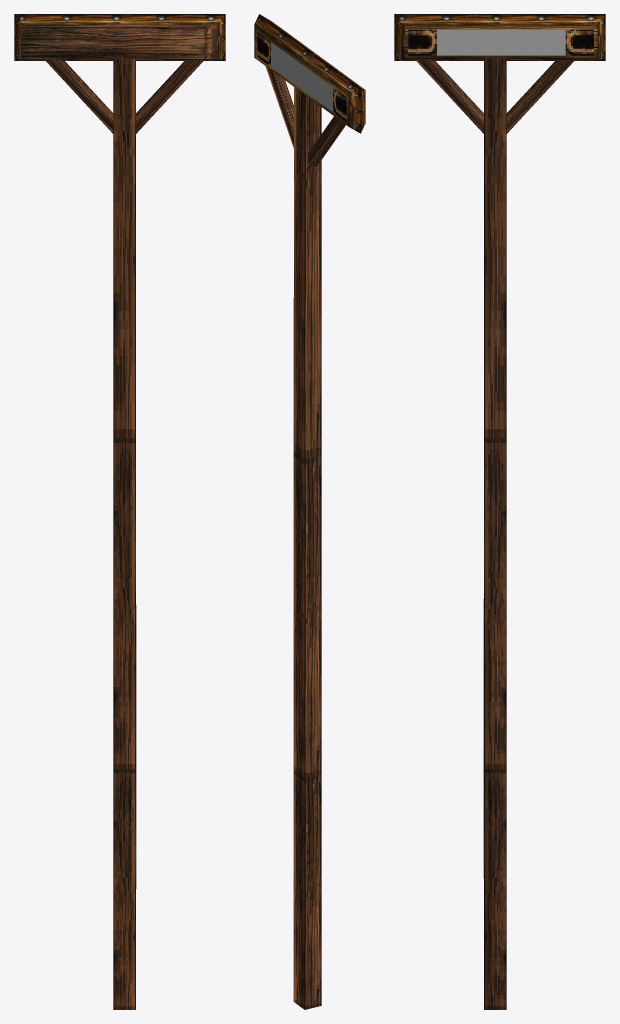
Rendered from INST_WH2_PLAT_POST.obj.
3 views of the same model, side by side, from view 1: azimuth 90°, elevation 25°; view 2: azimuth 210°, elevation 25°; view 3: azimuth 270°, elevation 25° (orthographic). The views are drawn at different scales.
Visible parts, largest first — view 1: Drop_Plat_Frame; view 2: Drop_Plat_Frame; view 3: Drop_Plat_Frame.
Boxes of the visible parts, <box> form: Drop_Plat_Frame: <box>14,14,225,1009</box>; Drop_Plat_Frame: <box>254,14,365,1009</box>; Drop_Plat_Frame: <box>394,14,605,1009</box>.
Size of the model in its own units: 21.16 by 1137 by 219.
